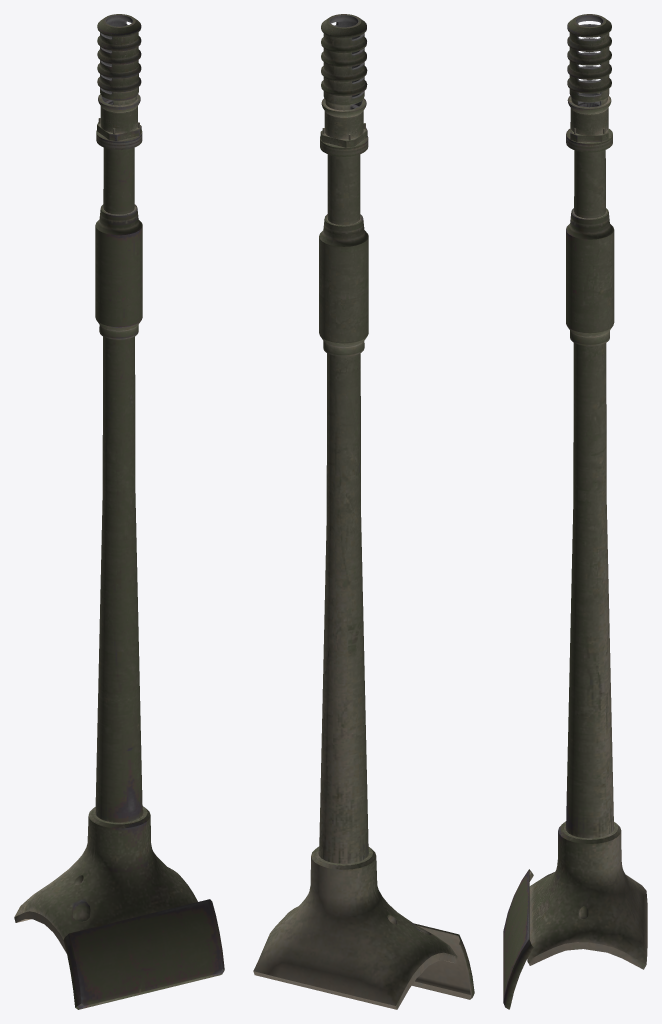
Rendered from Gun_05.glb.
3 views of the same model, side by side, from view 1: azimuth 30°, elevation 25°; view 2: azimuth 150°, elevation 25°; view 3: azimuth 270°, elevation 25° (orthographic). The views are drawn at different scales.
Parts seen in each view (by area): view 1: set_0_group_0; view 2: set_0_group_0; view 3: set_0_group_0.
Boxes of the visible parts, x1,y1,x2,y2 form: set_0_group_0: (14,14,224,1009); set_0_group_0: (253,14,474,1009); set_0_group_0: (503,14,647,1009).
Bounding box in the file's own units: 0.8999 × 5.48 × 0.7476.
1 material, 1 textured.
